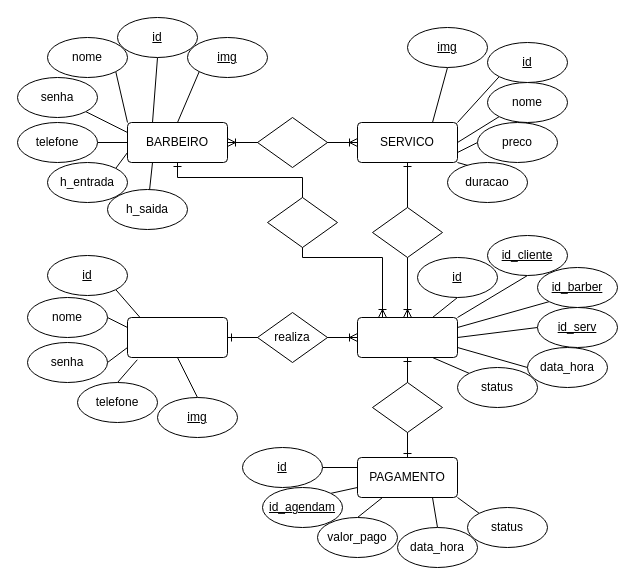
Some shapes in this 635 by 585 pixel diagram are drawn without their labels. Here are the shapes that lost their labels. From the top down, the centre of each, then its label:
[292,142]: presta
[302,222]: executa
[407,232]: compõe
[177,337]: CLIENTE
[407,337]: AGENDAMENTO
[407,407]: gera
